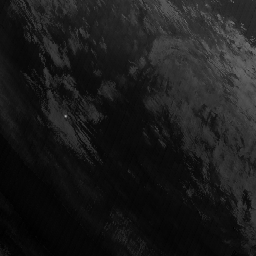Target: (62, 114, 67, 118)
